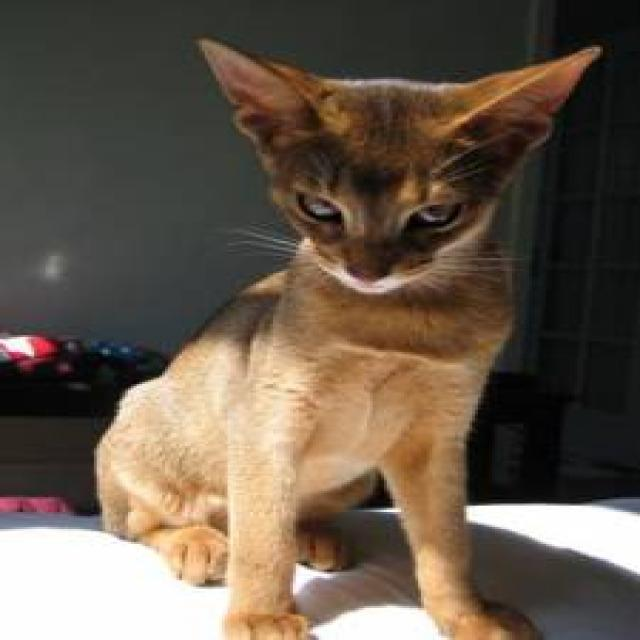Abyssinian: (187, 28, 610, 299)
